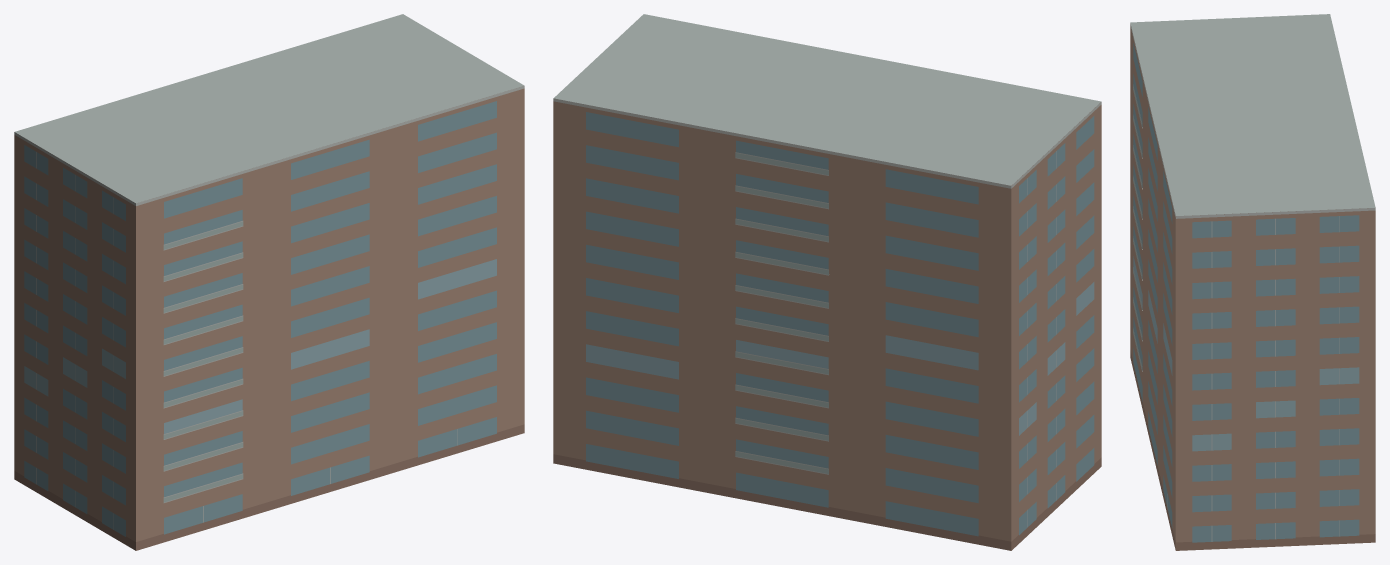
Rendered from residential-15621273-88a8-42f2-800d-4e1d25ee17d4.glb.
3 views of the same model, side by side, from view 1: azimuth 30°, elevation 25°; view 2: azimuth 150°, elevation 25°; view 3: azimuth 270°, elevation 25° (orthographic). The views are drawn at different scales.
Visible parts, largest first — view 1: residential-15621273-88a8-42f2-800d-4e1d25ee17d4.tmp; view 2: residential-15621273-88a8-42f2-800d-4e1d25ee17d4.tmp; view 3: residential-15621273-88a8-42f2-800d-4e1d25ee17d4.tmp.
Boxes of the visible parts, box(x1,y1,x2,y2) form: residential-15621273-88a8-42f2-800d-4e1d25ee17d4.tmp: box(14, 14, 524, 550); residential-15621273-88a8-42f2-800d-4e1d25ee17d4.tmp: box(553, 14, 1101, 550); residential-15621273-88a8-42f2-800d-4e1d25ee17d4.tmp: box(1130, 14, 1375, 550).
Size of the model in its own units: 38.86 by 30 by 19.94.
